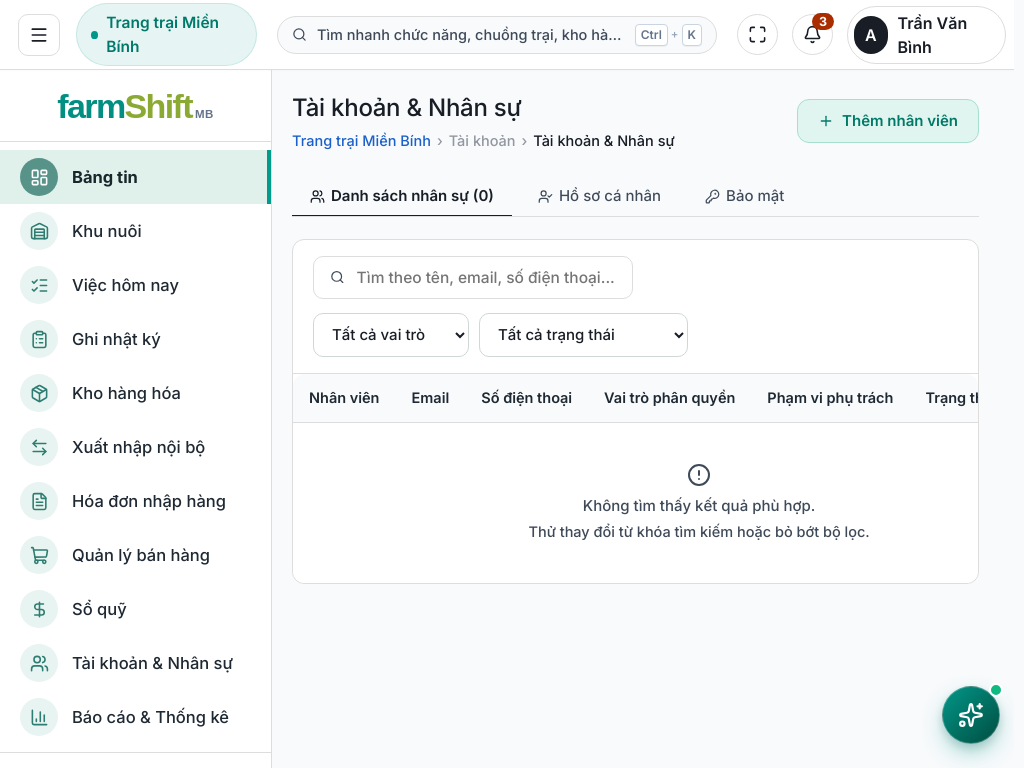
Interactive Dynamic Validation in AccountView Component › displays real-time live validation error on typing invalid CCCD without clicking submit
The width and height of the screenshot is (1024, 768).
Note: Switch to "Hồ sơ cá nhân" tab
Click the button "Hồ sơ cá nhân" at [599, 196], box [520,176,679,217]
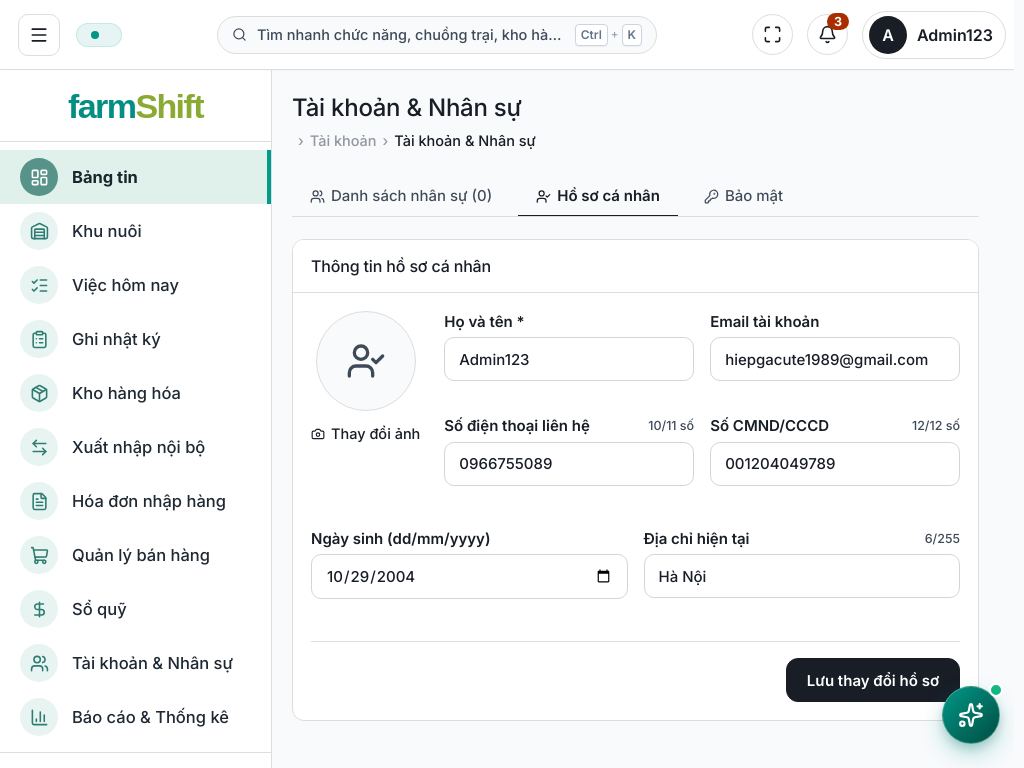
Expected: the field labelled "Số CMND/CCCD" is shown
Note: User types 11 digits: '00120404978' (matching the exact screenshot from the user!)
Replace the text in the field labelled "Số CMND/CCCD" with "00120404978" at [835, 464], box [710,442,960,486]
(page scrolled)
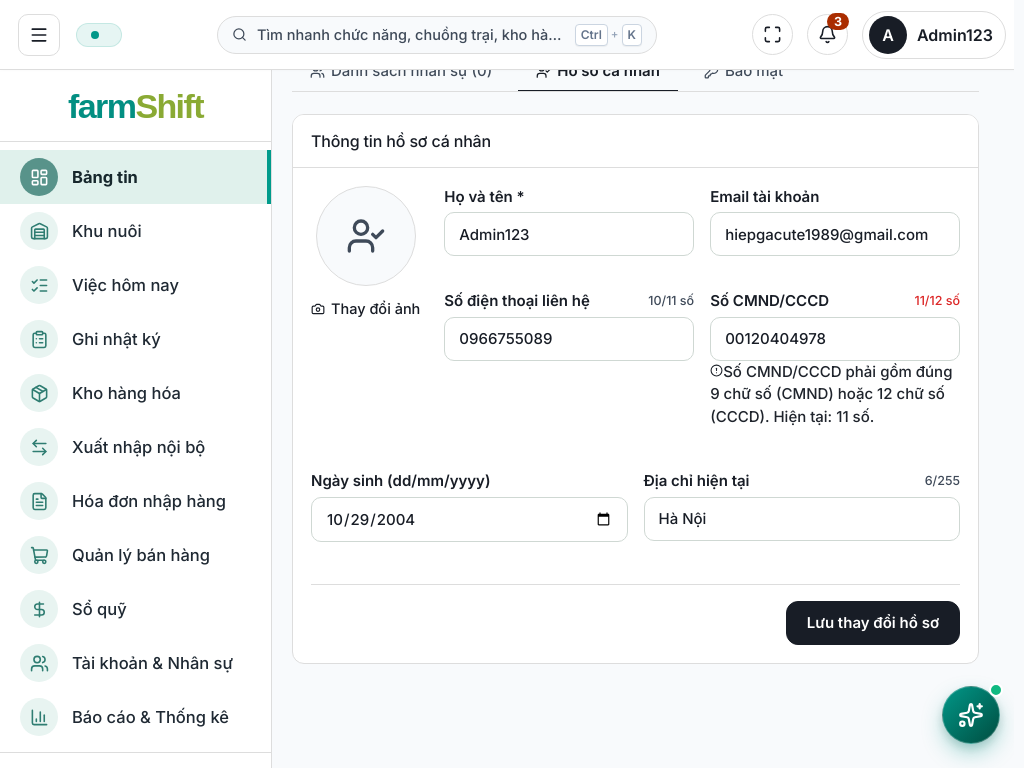
Expected: the text "Số CMND/CCCD phải gồm đúng 9 chữ số (CMND) hoặc 12 chữ số (CCCD)" is shown, [710,362,952,426]
Note: Try to click Submit while field is invalid: should BLOCK backend call
Click the button "Lưu thay đổi hồ sơ" at [873, 623], box [786,601,960,645]
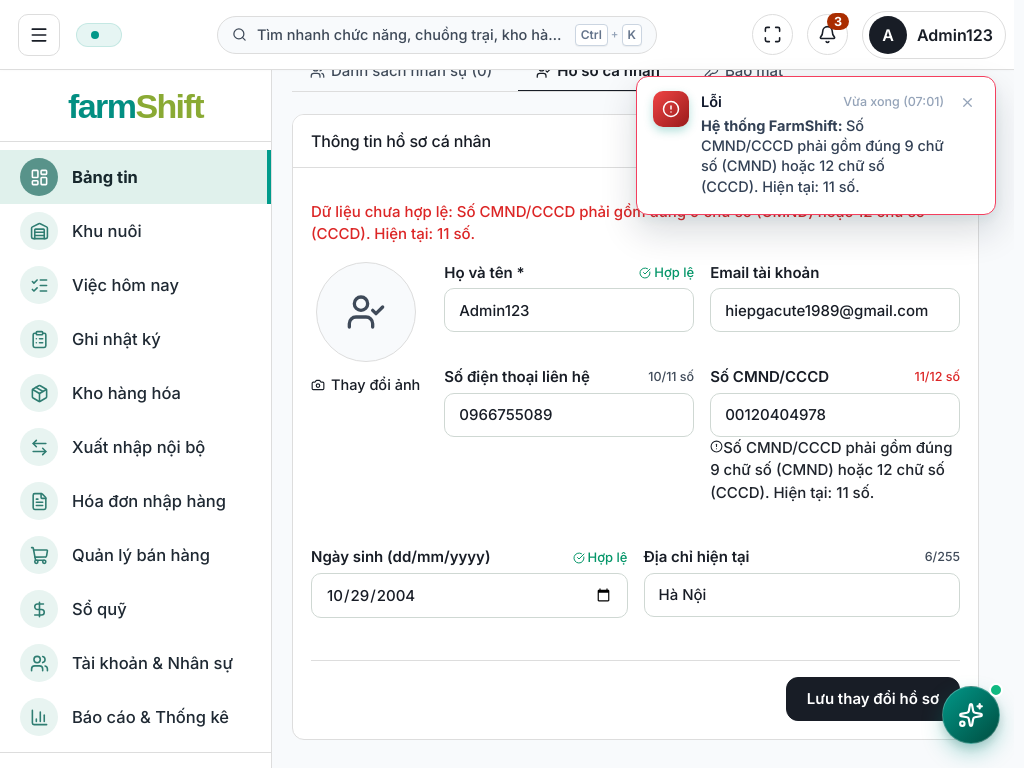
Note: Now user types the 12th digit ('001204049789')
Replace the text in the field labelled "Số CMND/CCCD" with "001204049789" at [835, 415], box [710,393,960,437]
(page scrolled)
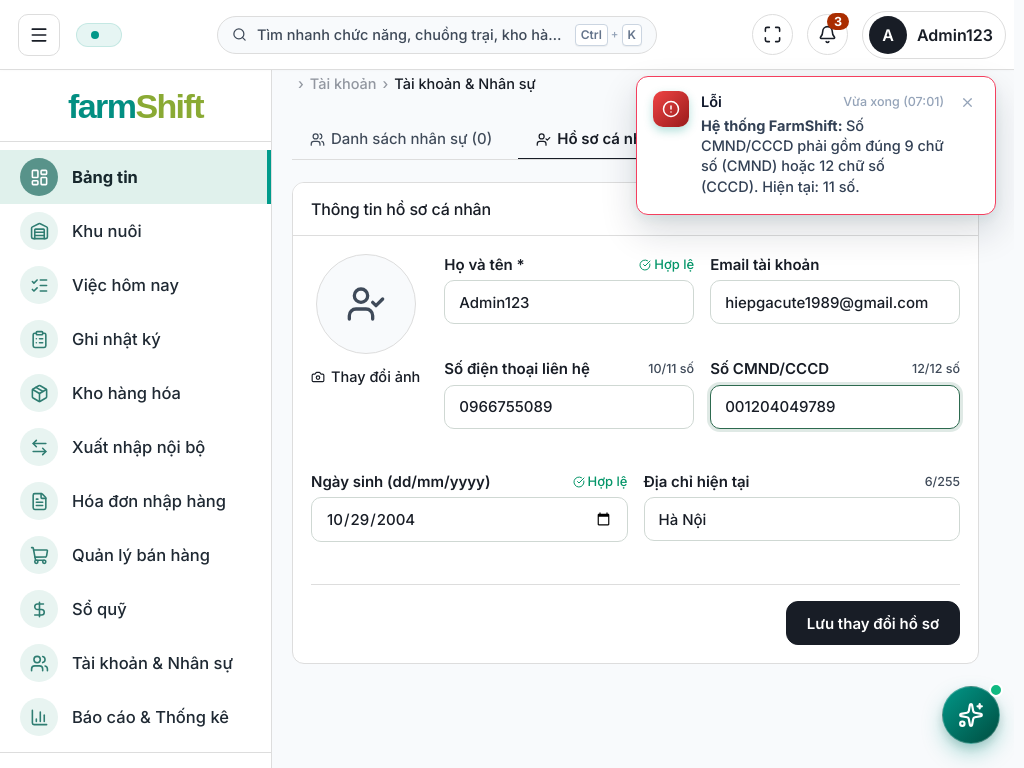
Expected: the message with class "farmshift-field-error-msg" is gone
